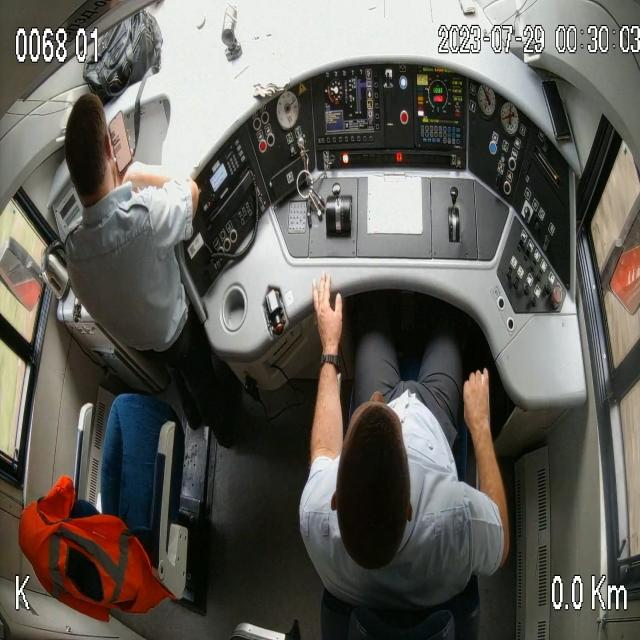smartphone: (103, 107, 134, 181)
